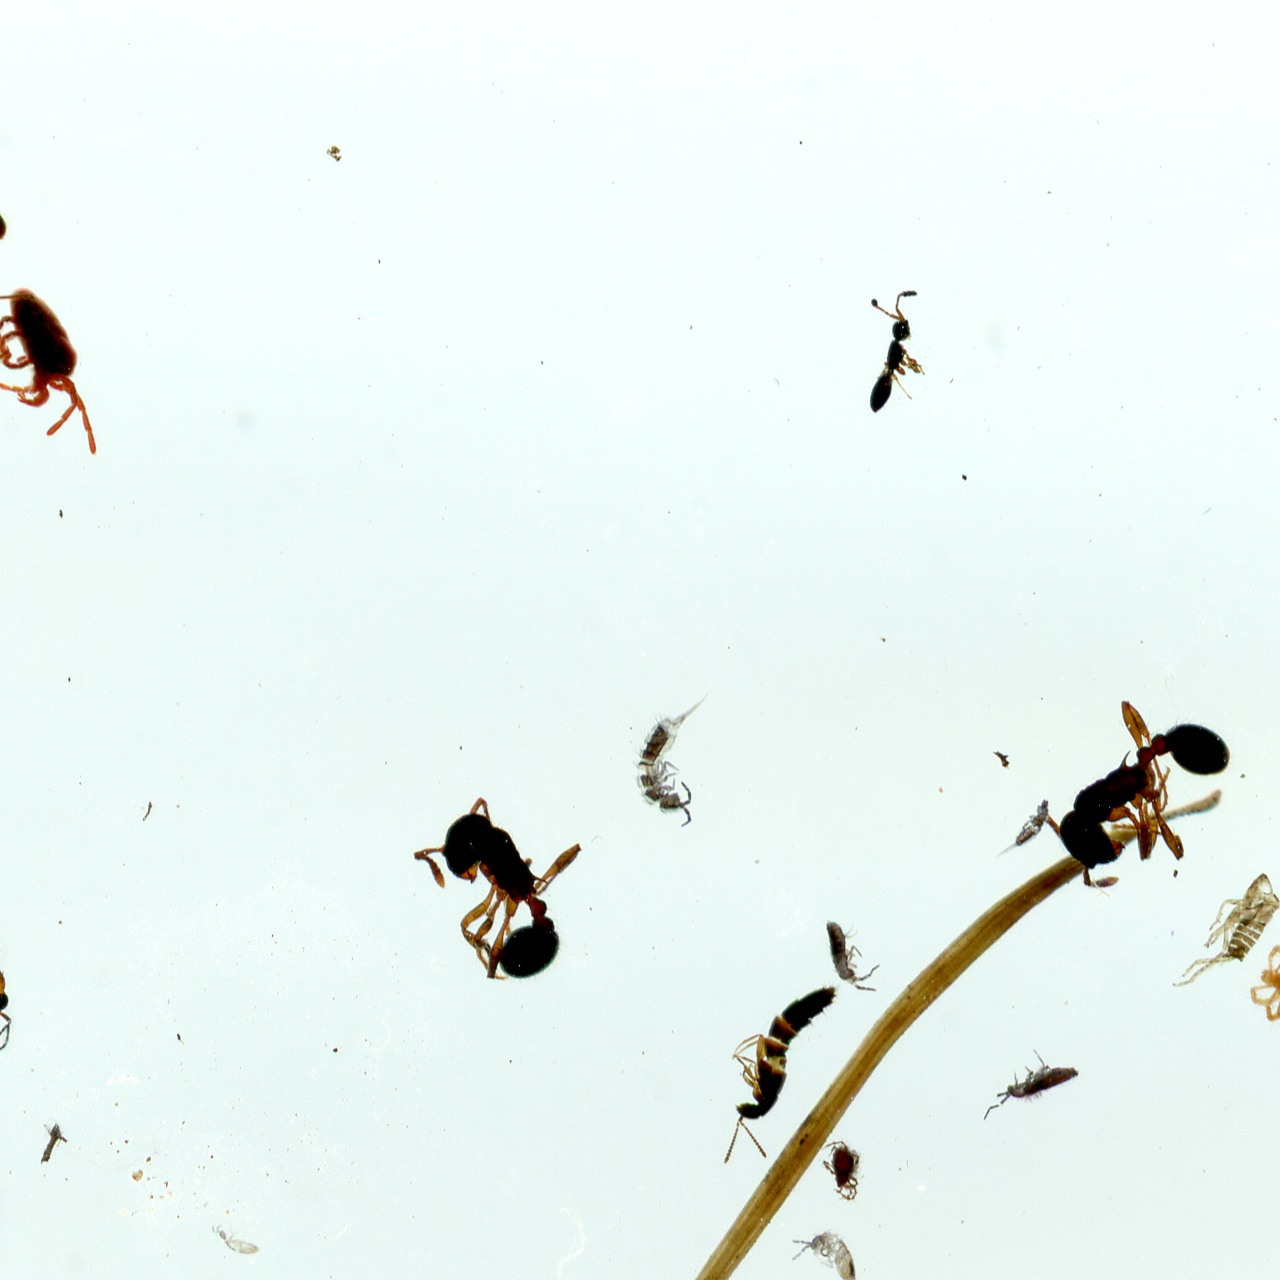arthropod: (1042, 698, 1235, 894), (406, 792, 588, 994), (694, 960, 846, 1188), (0, 280, 101, 459), (961, 1030, 1097, 1126), (630, 680, 713, 837), (861, 283, 935, 424), (810, 898, 890, 1007), (0, 193, 21, 401), (787, 1230, 865, 1280), (990, 799, 1050, 863), (1240, 941, 1280, 1037), (203, 1218, 277, 1267), (0, 911, 21, 1065), (820, 1139, 864, 1204)
